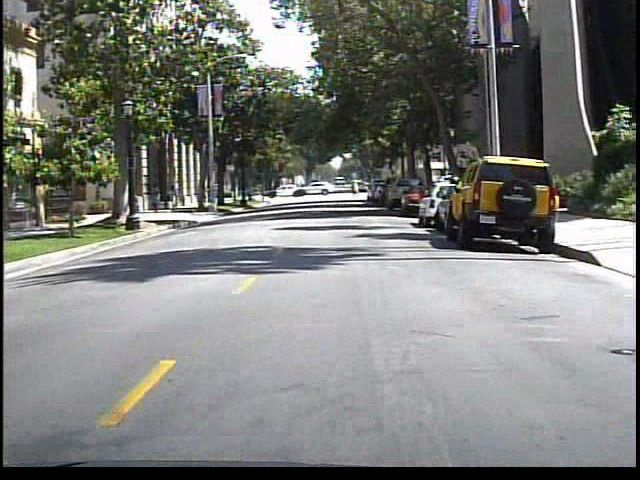person: (167, 182, 187, 214), (151, 180, 169, 214), (351, 179, 365, 202)
